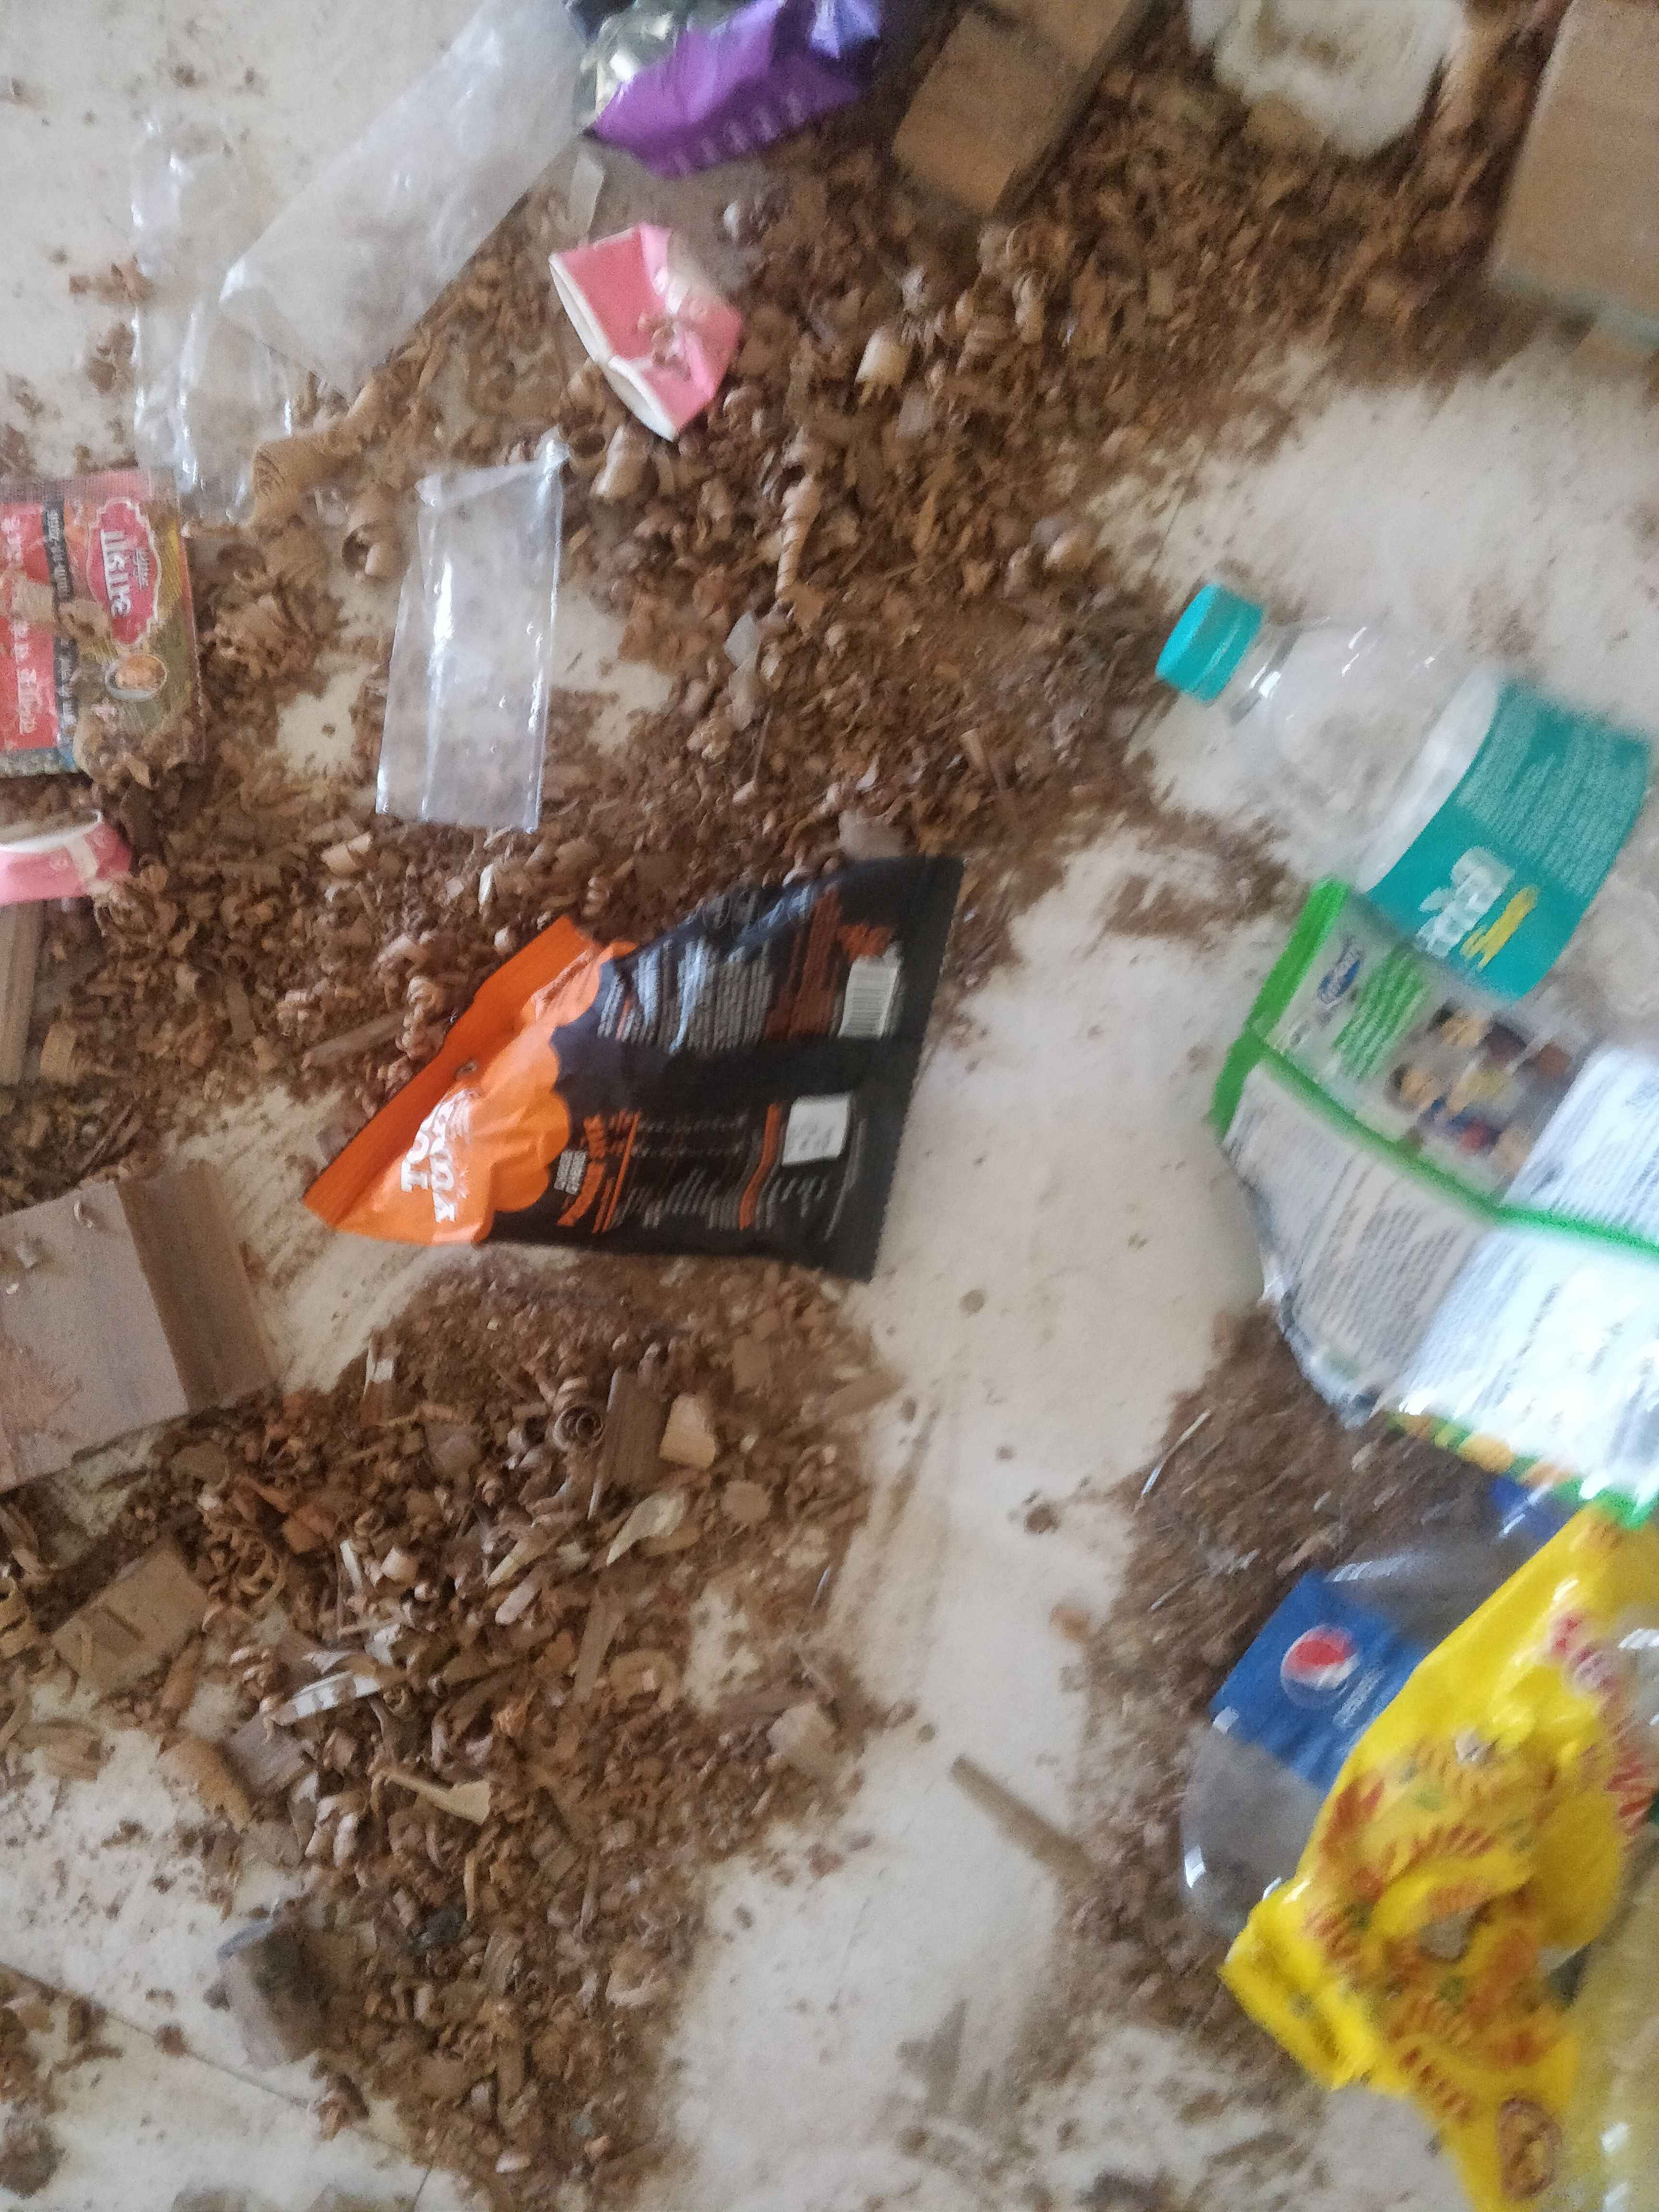Bisleri: (1396, 761, 1608, 960)
kurkure: (1303, 925, 1382, 1021)
pepsi: (1265, 1622, 1385, 1742)
tooyumm: (387, 1062, 528, 1249)
